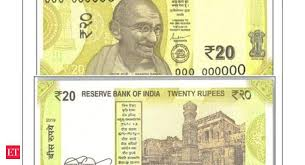twenty: (50, 1, 260, 65)
